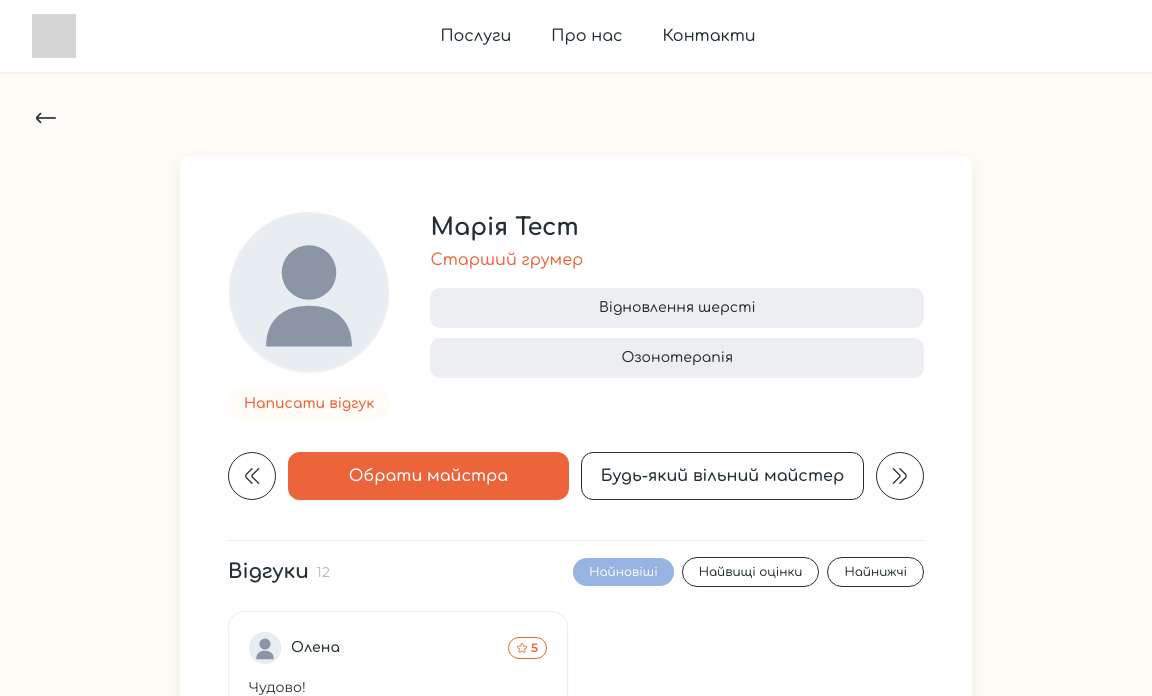
Test: BookingPage › advances from stage 3 to stage 4 when choosing any master
Click the button "Будь-який вільний майстер" at (722, 476), box [581,452,864,500]
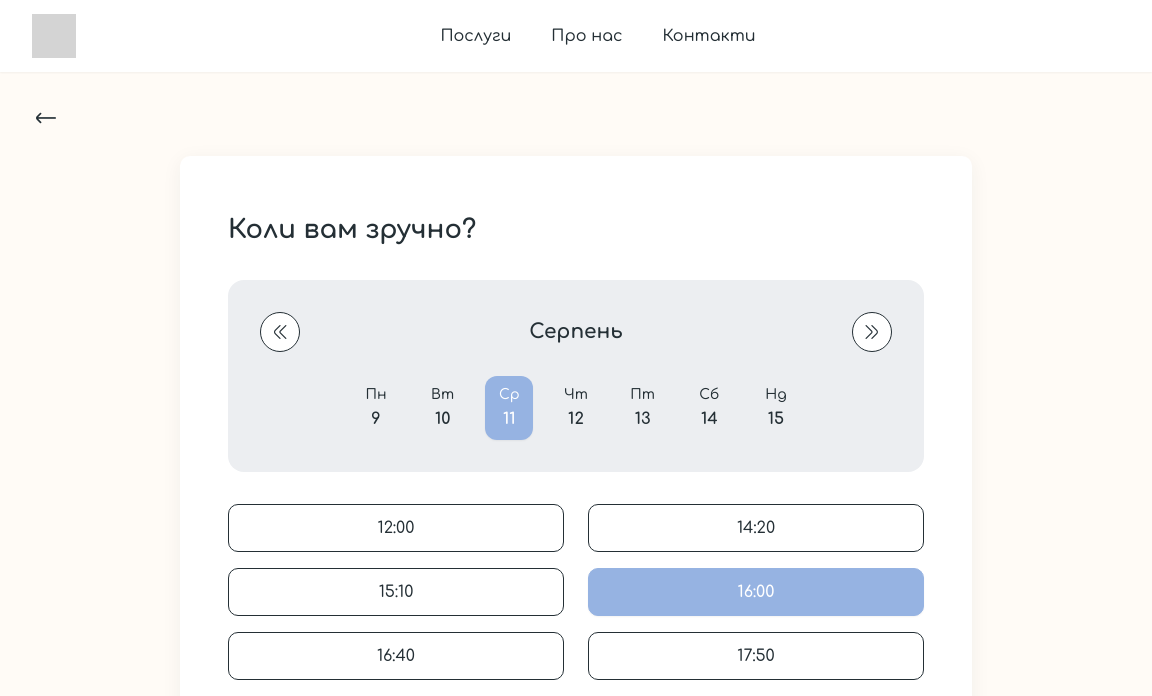
Check: the heading "Коли вам зручно?" is shown, box [228,215,476,244]
